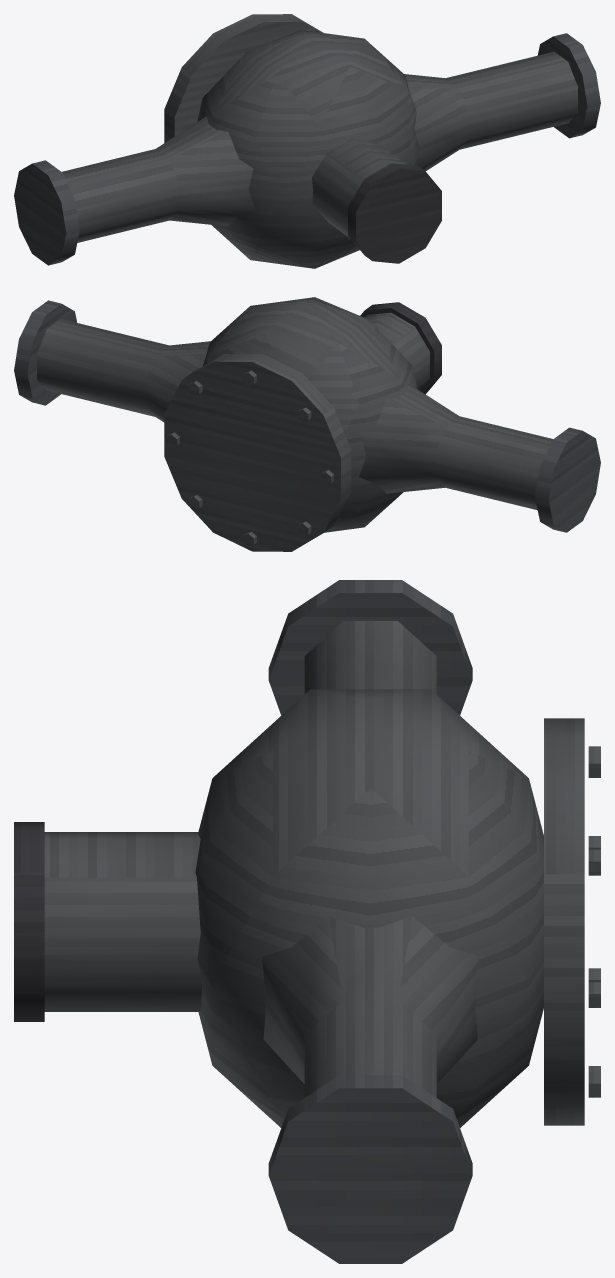
The model's file is diferencial_fabrica.glb.
3 renders of one model, top to bottom at view 1: azimuth 30°, elevation 25°; view 2: azimuth 150°, elevation 25°; view 3: azimuth 270°, elevation 25°, orthographic. The views are drawn at different scales.
Visible parts, largest first — view 1: diferencial_fabrica; view 2: diferencial_fabrica; view 3: diferencial_fabrica.
Part boxes in pixels (x1,y1,x2,y2): diferencial_fabrica: (14,14,600,268); diferencial_fabrica: (14,297,600,551); diferencial_fabrica: (14,580,600,1263).
Size of the model in its own units: 0.59 by 0.24 by 0.288.
1 material, 1 textured.
